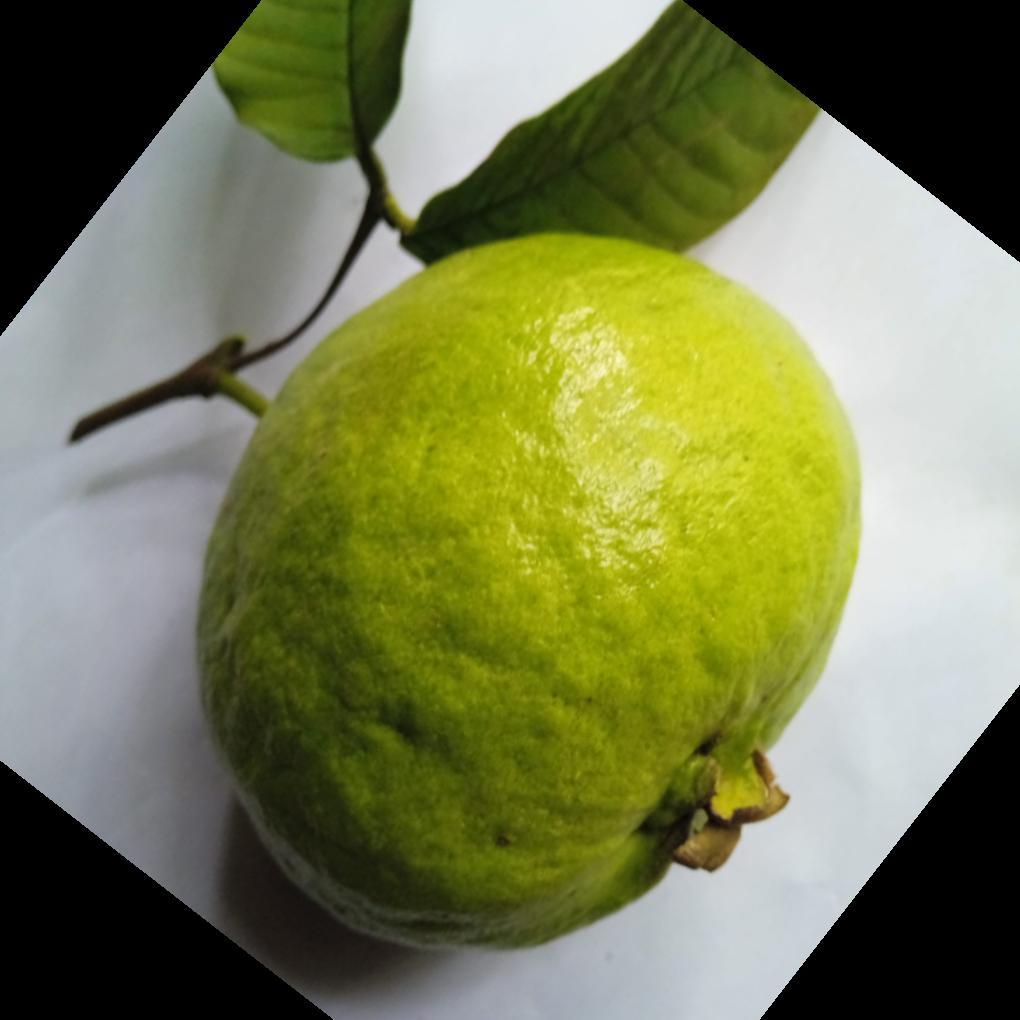FreshGuava: (192, 232, 864, 955)
